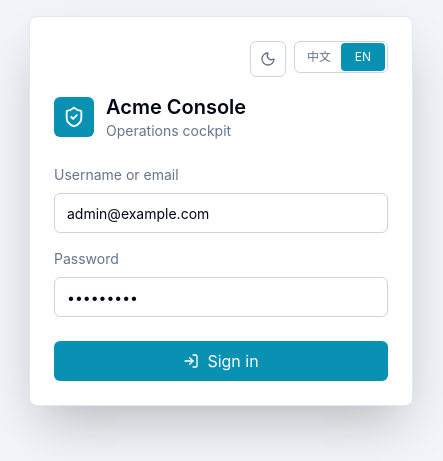
Test case: LoginView i18n › switches to Chinese and persists the selected locale
Click the button "中文".
click(319, 57)  # box left=297, top=43, right=341, bottom=71
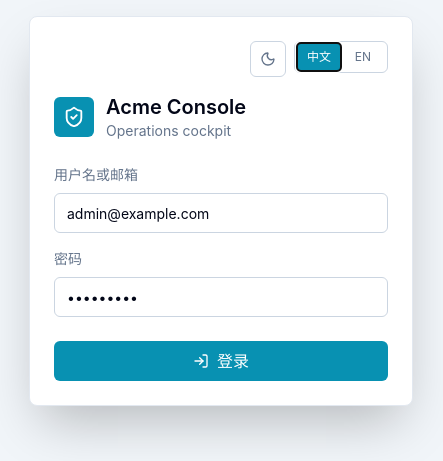
Check: the text "Operations cockpit" is shown, box left=106, top=121, right=246, bottom=141
Check: the text "用户名或邮箱" is shown, box left=54, top=166, right=138, bottom=183
